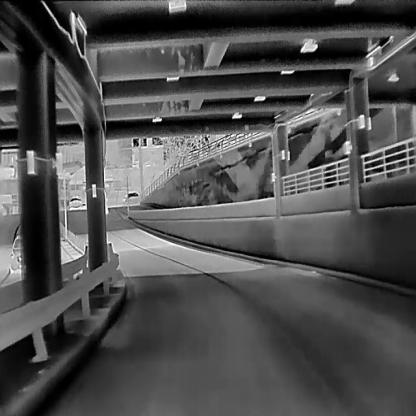car: (6, 230, 22, 274), (123, 190, 139, 204), (68, 195, 82, 210)
